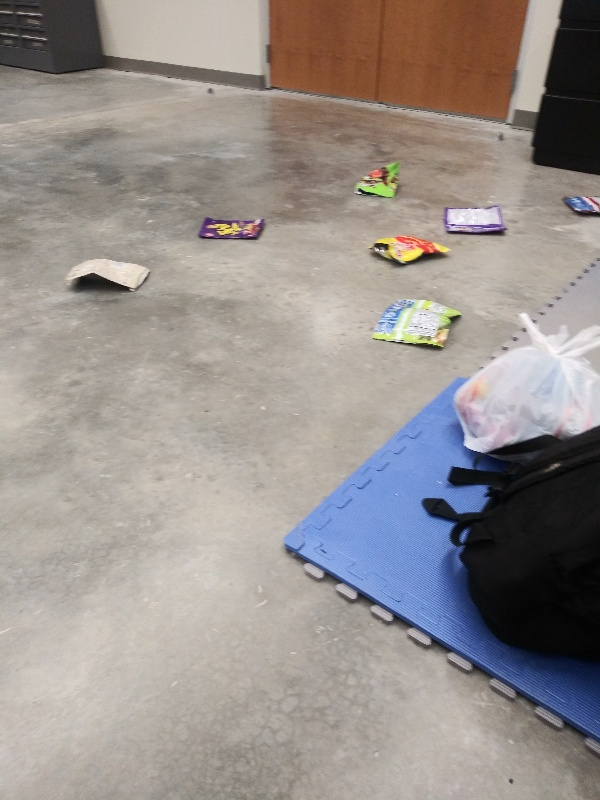bag: (366, 292, 466, 354), (64, 252, 154, 297), (362, 231, 458, 270), (435, 198, 511, 239), (193, 212, 269, 244), (353, 158, 406, 203), (556, 187, 600, 220)
